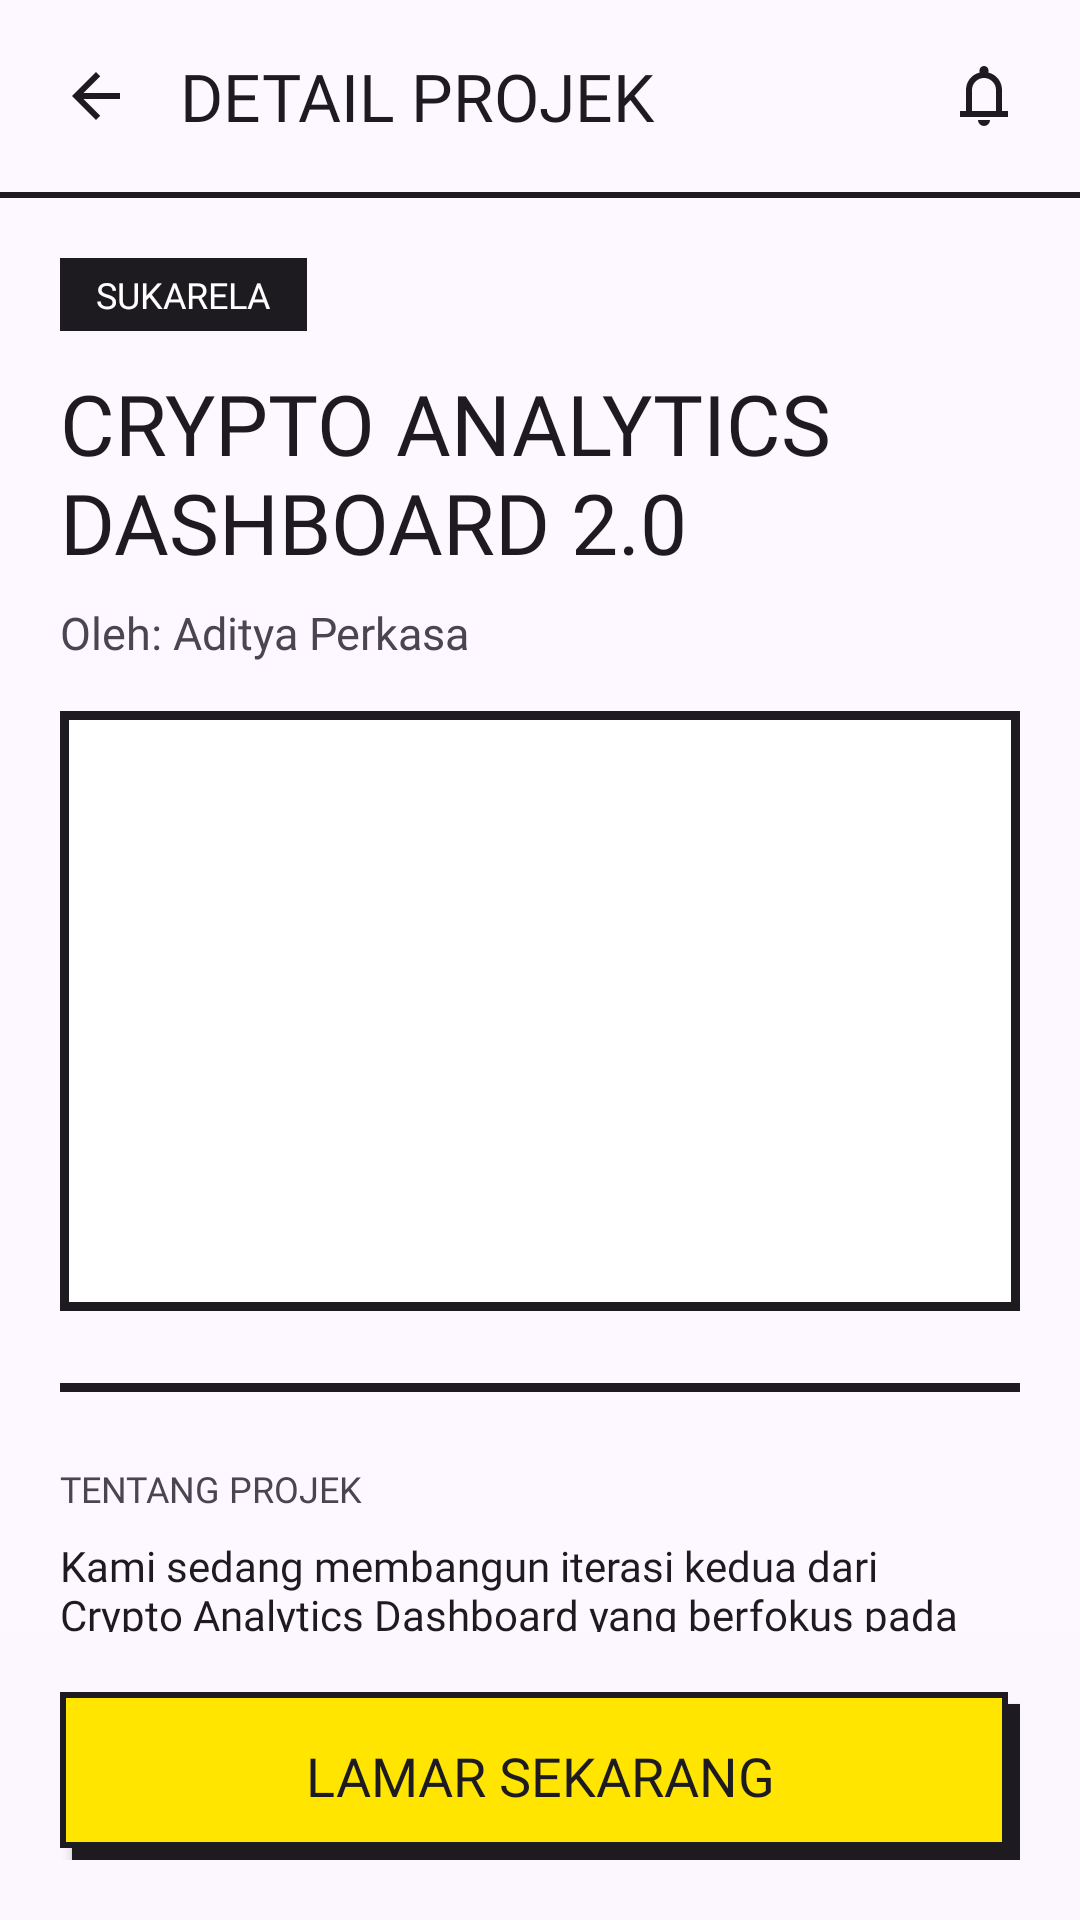

Screen size 1080×1920. Icon name, then its center in pixels as point (x, y):
back: point (96, 96)
notifications: point (984, 96)
